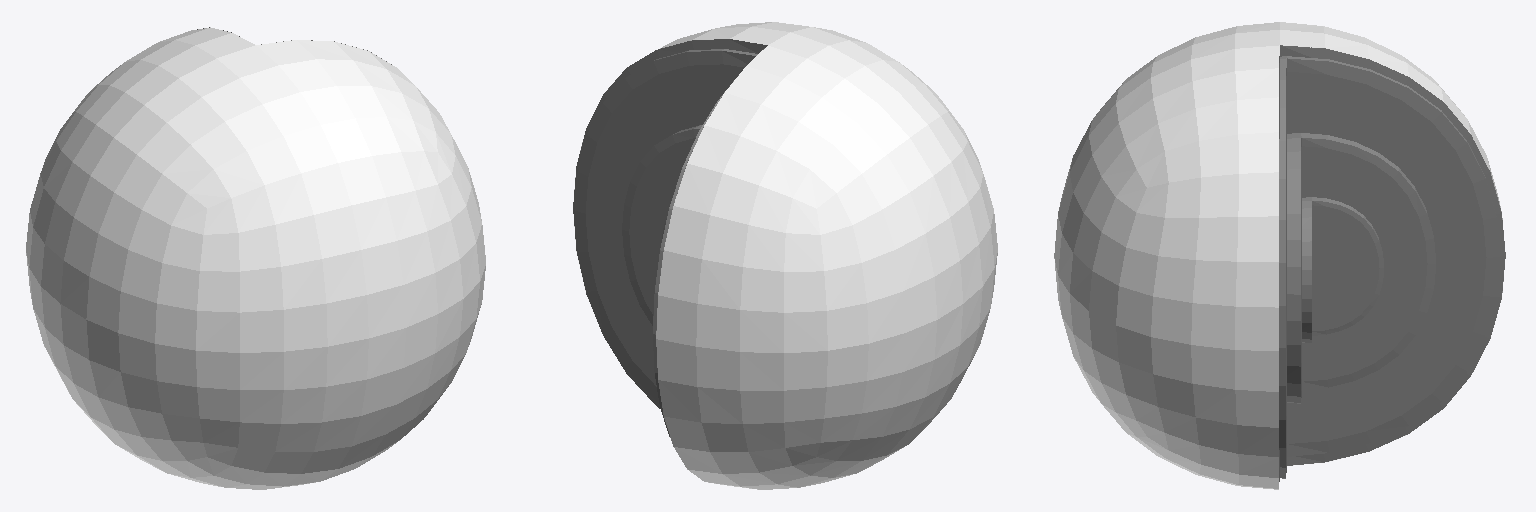
The picture shows the model from 3 angles: view 1: azimuth 30°, elevation 25°; view 2: azimuth 150°, elevation 25°; view 3: azimuth 270°, elevation 25°; orthographic projection.
Visible parts, largest first — view 1: 1-_Earth; view 2: 1-_Earth, 6-_Mantle001_EarthLay, 4-_OuterCore_EarthLay, 3-_Mantle_EarthLayers, 2-_EarthLayers; view 3: 1-_Earth, 6-_Mantle001_EarthLay, 4-_OuterCore_EarthLay, 5-_InnerCore_EarthLay, 3-_Mantle_EarthLayers, 2-_EarthLayers.
Boxes of the visible parts, x1=… form: 1-_Earth: x1=26, y1=27, x2=485, y2=489; 1-_Earth: x1=574, y1=22, x2=997, y2=489; 6-_Mantle001_EarthLay: x1=574, y1=49, x2=757, y2=411; 4-_OuterCore_EarthLay: x1=622, y1=125, x2=701, y2=325; 3-_Mantle_EarthLayers: x1=574, y1=81, x2=733, y2=436; 2-_EarthLayers: x1=573, y1=39, x2=767, y2=408; 1-_Earth: x1=1054, y1=22, x2=1503, y2=489; 6-_Mantle001_EarthLay: x1=1279, y1=56, x2=1499, y2=478; 4-_OuterCore_EarthLay: x1=1287, y1=133, x2=1435, y2=403; 5-_InnerCore_EarthLay: x1=1302, y1=197, x2=1383, y2=342; 3-_Mantle_EarthLayers: x1=1279, y1=56, x2=1499, y2=477; 2-_EarthLayers: x1=1279, y1=45, x2=1505, y2=481.
Bounding box in the file's own units: 10.44 × 10.76 × 10.44.